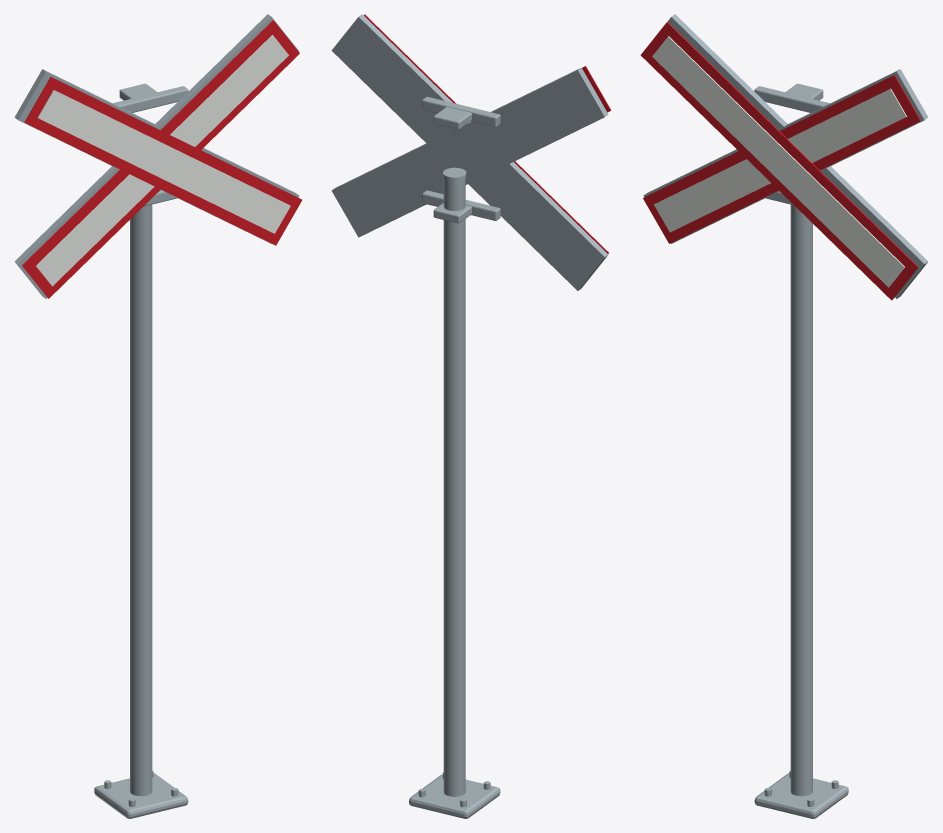
Rendered from DS_Sign_SingleTrack.fbx.
The picture shows the model from 3 angles, left to right: view 1: azimuth 30°, elevation 25°; view 2: azimuth 150°, elevation 25°; view 3: azimuth 330°, elevation 25°; orthographic projection. The views are drawn at different scales.
Parts seen in each view (by area): view 1: Post.002, Face_Field_1, Face_Field_0, Face_Border_1, Face_Border_0, Plate_Back.002, BasePlate.002, Plate_Back.003, RearRail.005; view 2: Plate_Back.002, Post.002, Plate_Back.003, BasePlate.002, RearRail.005, RearRail.004, PostClamp.005, Face_Border_0; view 3: Post.002, Face_Field_1, Face_Field_0, Face_Border_1, Face_Border_0, Plate_Back.003, BasePlate.002, Plate_Back.002, RearRail.005.
Boxes of the visible parts, x1=… form: Post.002: x1=130, y1=204, x2=152, y2=796; Face_Field_1: x1=37, y1=90, x2=290, y2=233; Face_Field_0: x1=36, y1=35, x2=288, y2=286; Face_Border_1: x1=24, y1=77, x2=302, y2=245; Face_Border_0: x1=22, y1=20, x2=299, y2=298; Plate_Back.002: x1=14, y1=14, x2=299, y2=298; BasePlate.002: x1=94, y1=773, x2=188, y2=818; Plate_Back.003: x1=14, y1=69, x2=299, y2=243; RearRail.005: x1=113, y1=86, x2=188, y2=112; Plate_Back.002: x1=331, y1=14, x2=608, y2=290; Post.002: x1=443, y1=179, x2=465, y2=796; Plate_Back.003: x1=331, y1=67, x2=608, y2=237; BasePlate.002: x1=409, y1=774, x2=500, y2=818; RearRail.005: x1=422, y1=96, x2=500, y2=127; RearRail.004: x1=422, y1=190, x2=500, y2=220; PostClamp.005: x1=433, y1=107, x2=471, y2=129; Face_Border_0: x1=364, y1=14, x2=608, y2=253; Post.002: x1=790, y1=204, x2=812, y2=796; Face_Field_1: x1=652, y1=36, x2=905, y2=287; Face_Field_0: x1=654, y1=88, x2=906, y2=232; Face_Border_1: x1=640, y1=22, x2=918, y2=300; Face_Border_0: x1=643, y1=75, x2=920, y2=243; Plate_Back.003: x1=667, y1=14, x2=928, y2=298; BasePlate.002: x1=754, y1=773, x2=848, y2=818; Plate_Back.002: x1=643, y1=69, x2=928, y2=243; RearRail.005: x1=754, y1=86, x2=829, y2=112.
Bounding box in the file's own units: 110 × 287 × 27.8.
